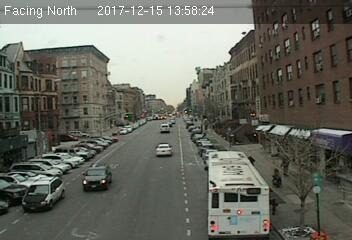bus: (205, 152, 275, 239)
car: (21, 175, 63, 211), (81, 164, 112, 192), (154, 142, 174, 155)
pedestrian: (273, 167, 280, 191)
